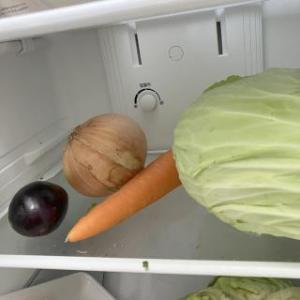cabbage: (170, 66, 300, 242), (172, 274, 300, 300)
carrot: (64, 148, 184, 245)
eggplant: (7, 180, 69, 238)
onion: (61, 112, 148, 200)
